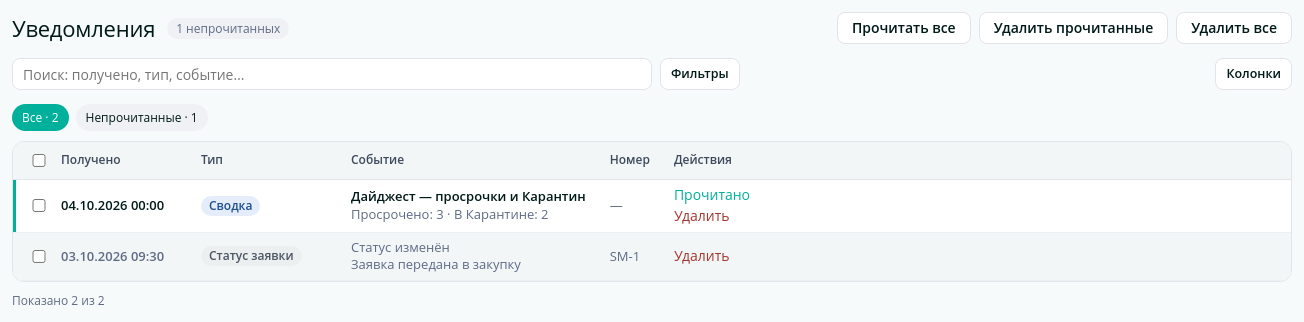
it: deletes one notification from its row and tells the bell the new unread count
Click the button "Удалить" in the row of "04.10.2026 00:00".
click(702, 216)  # box [674,207,730,226]
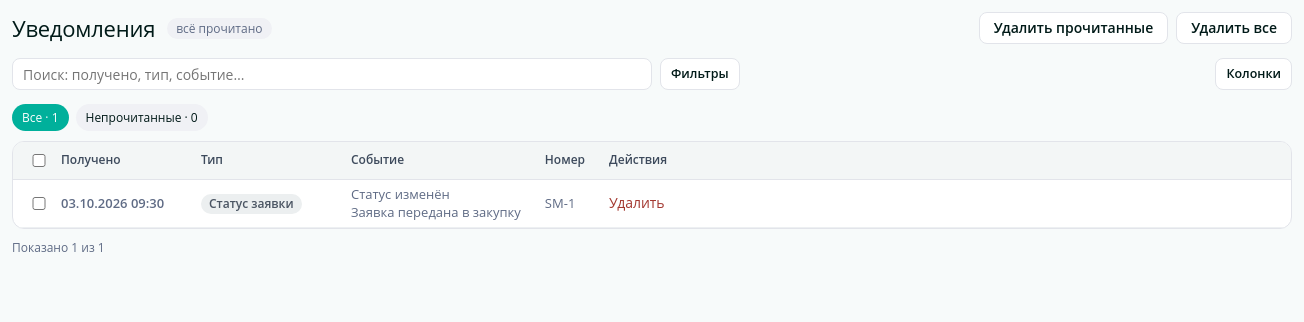
Expected: the text "Статус изменён" is shown, [351,185,450,203]
Expected: the text "Дайджест — просрочки и Карантин" is gone
Expected: the text "всё прочитано" is shown, [167,18,272,38]
